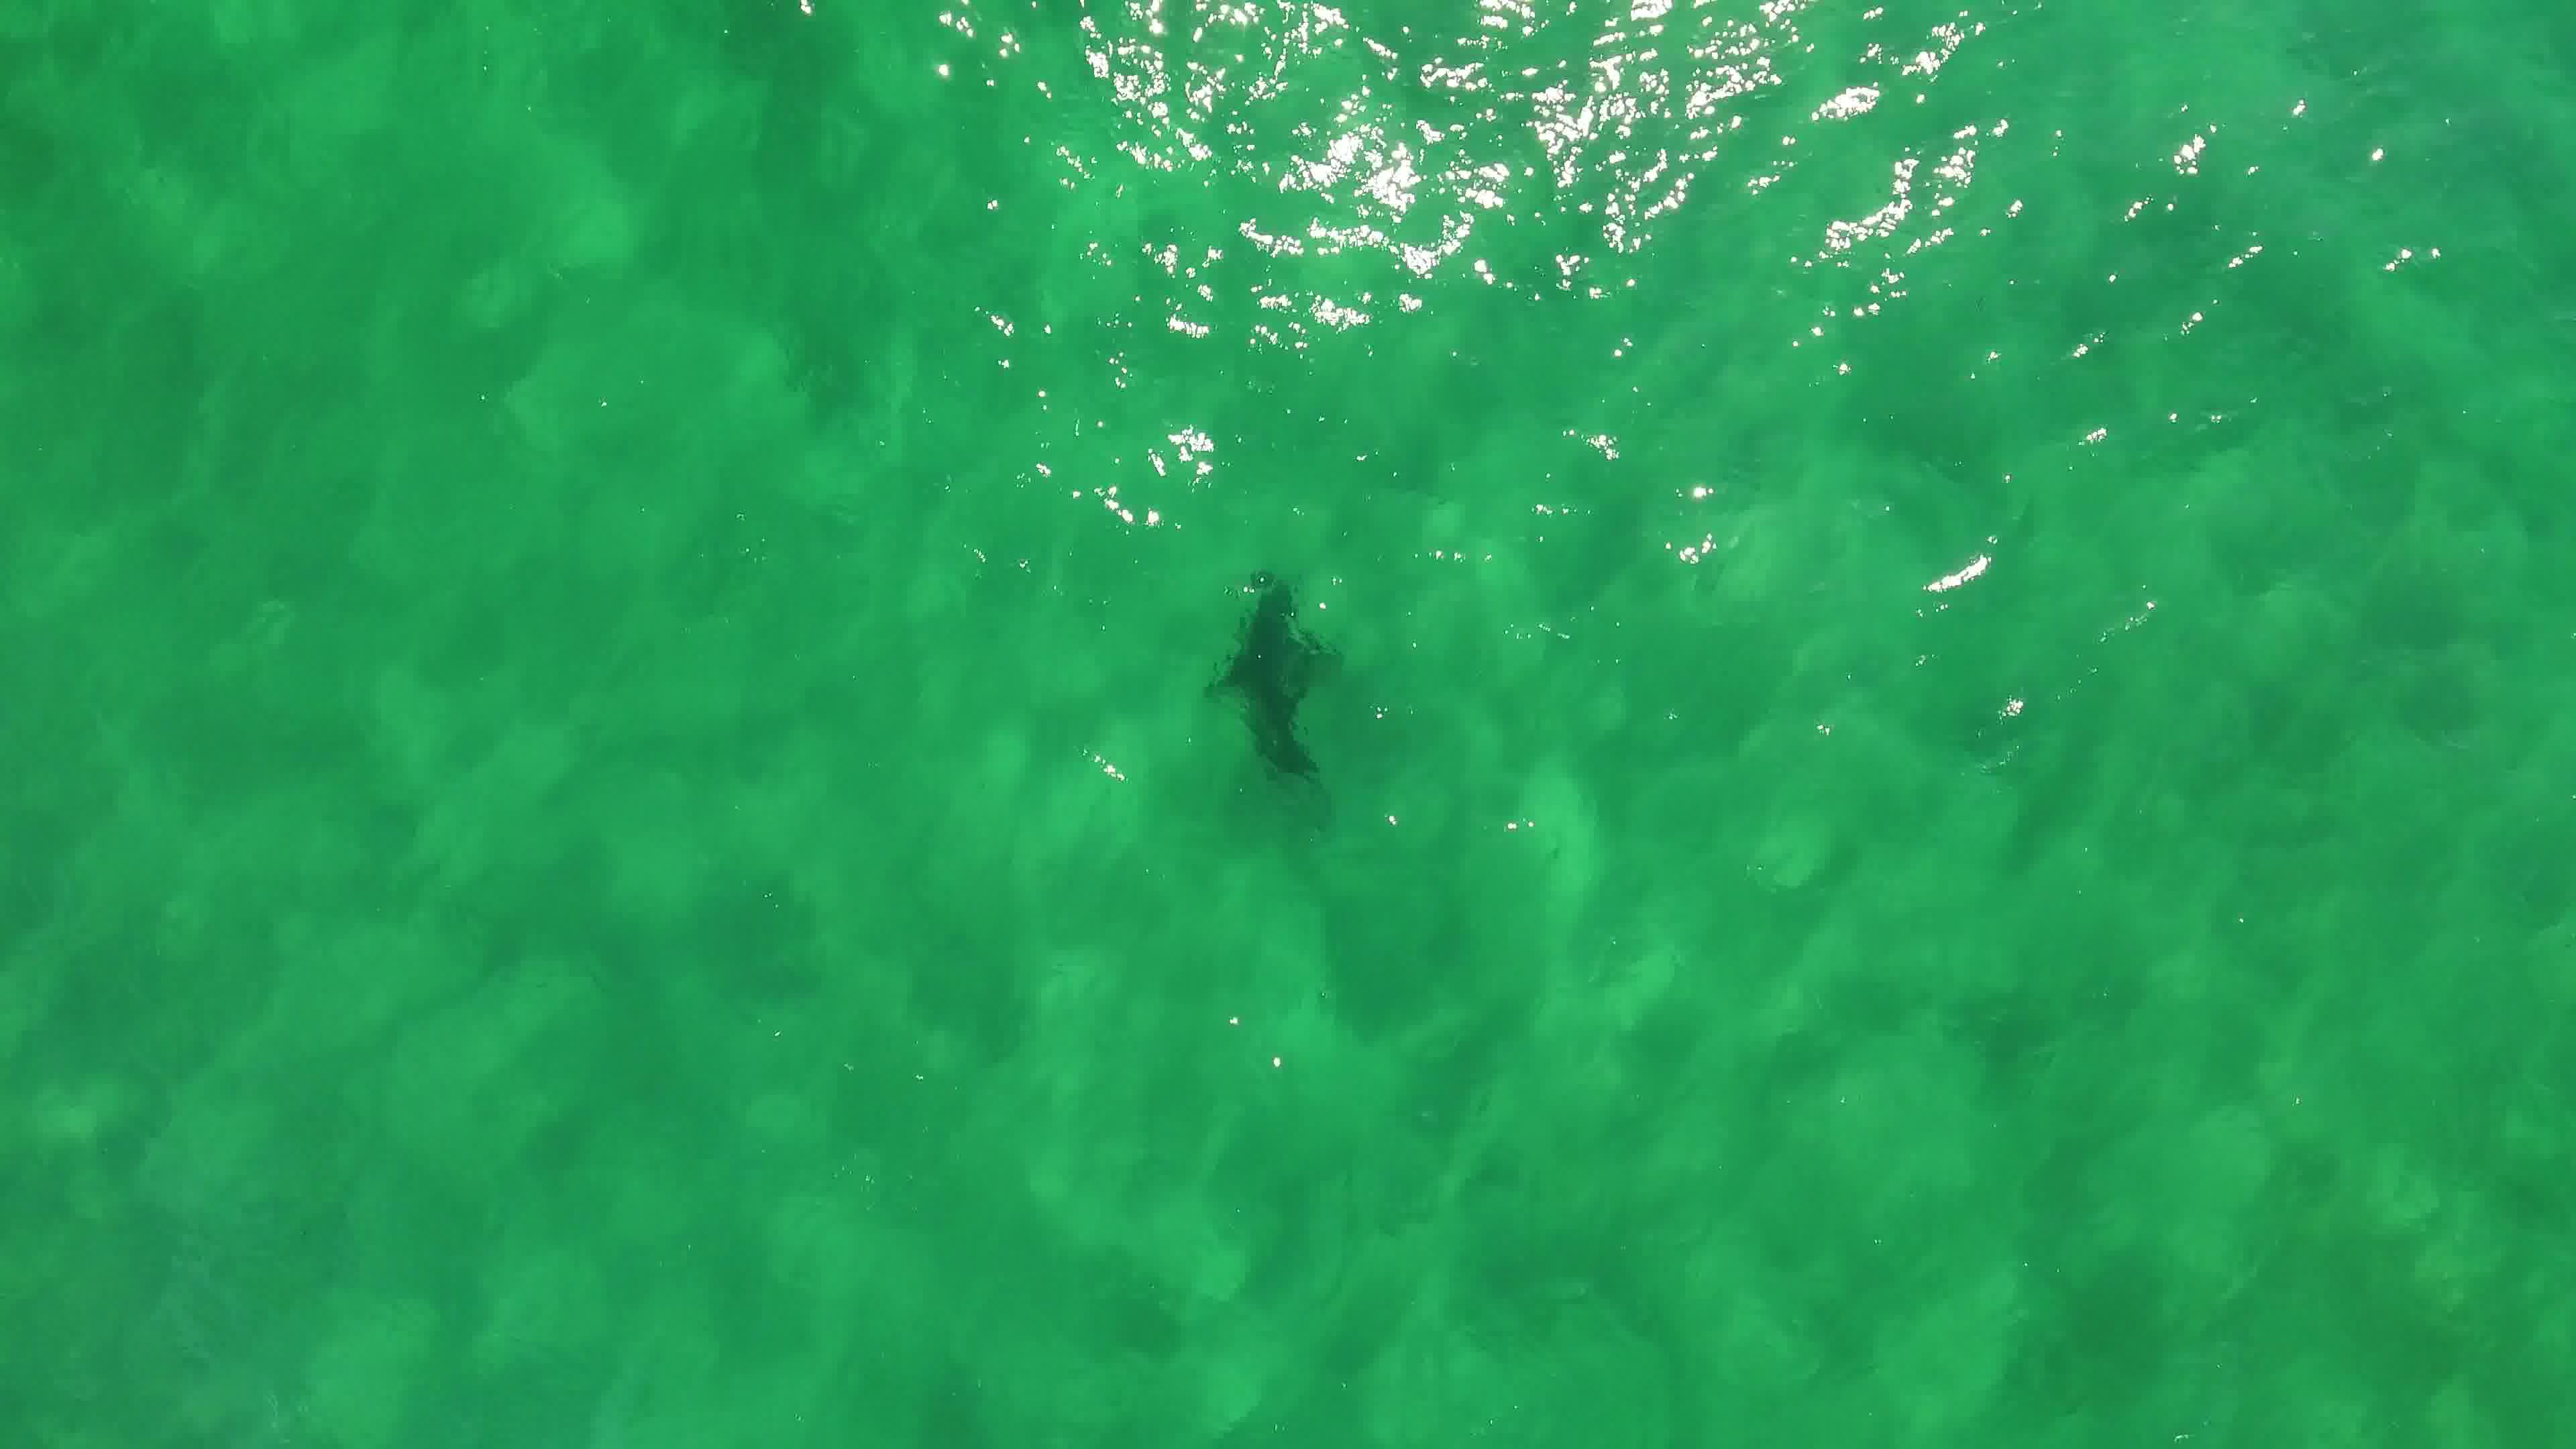shark: (1196, 563, 1350, 805)
